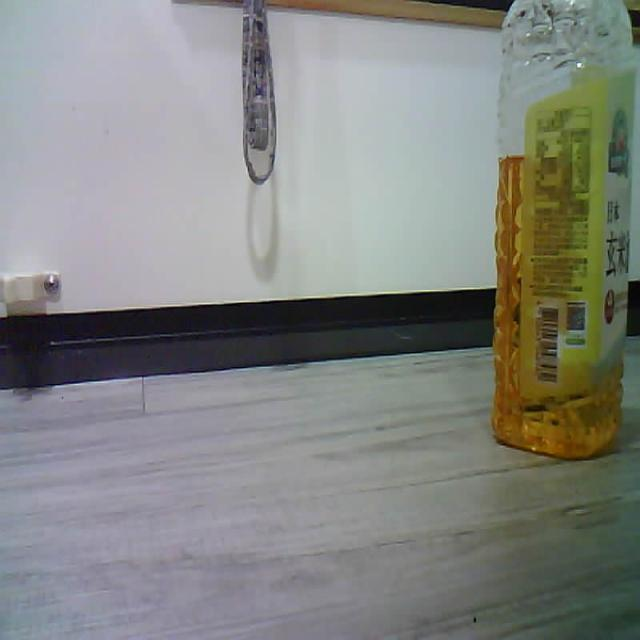bottle: (492, 0, 637, 458)
